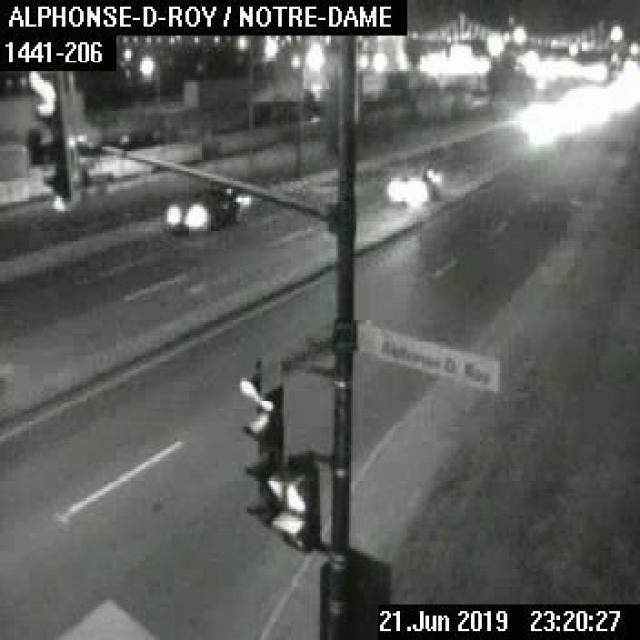vehicle: (162, 185, 234, 231), (386, 164, 436, 200)
